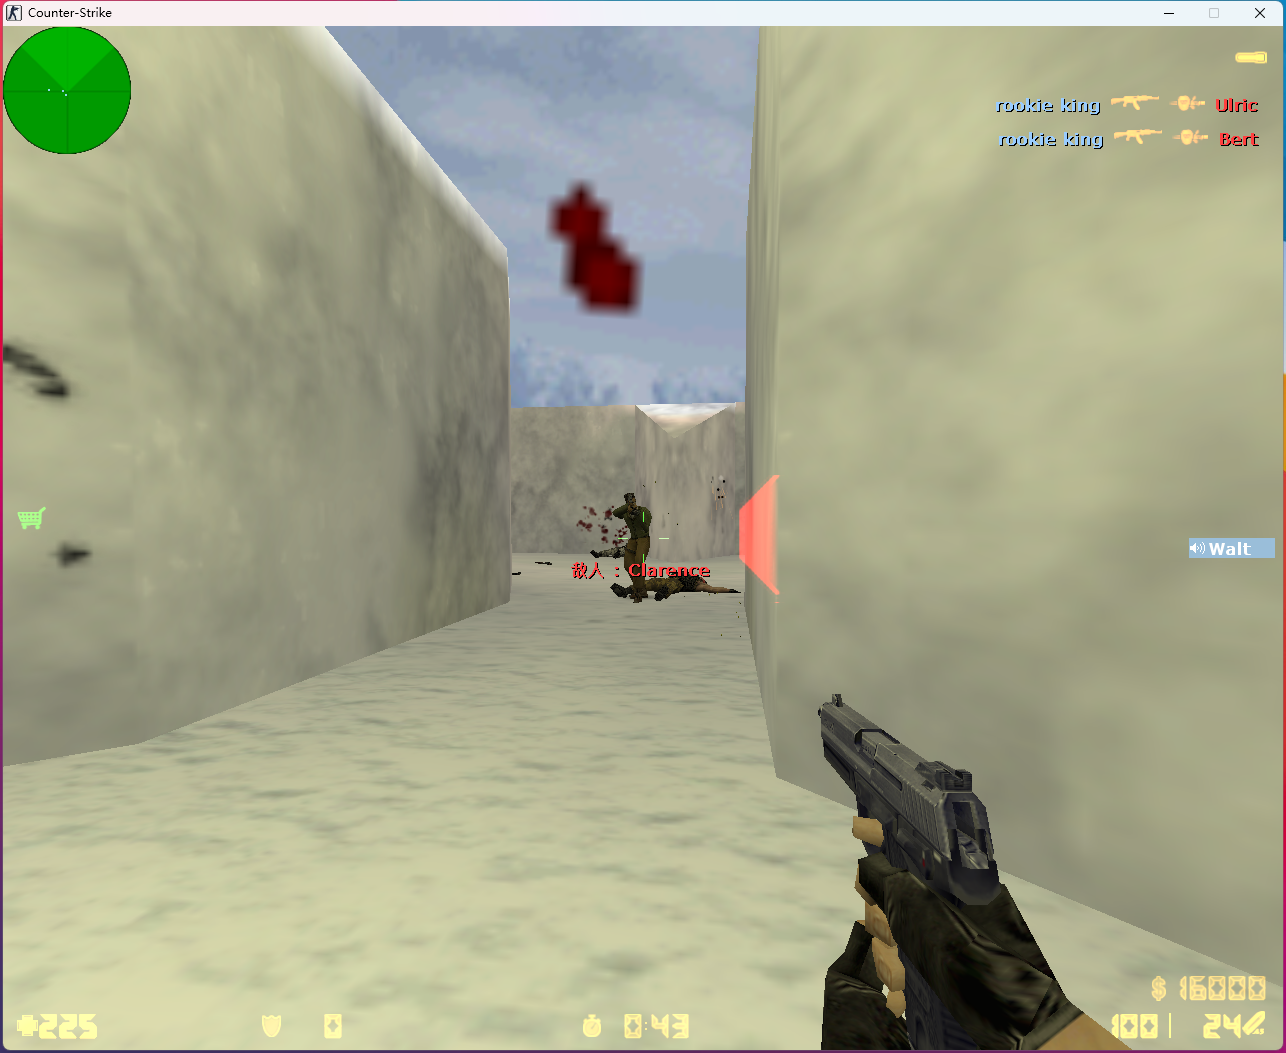T: (612, 493, 652, 606)
dead: (608, 571, 739, 607)
